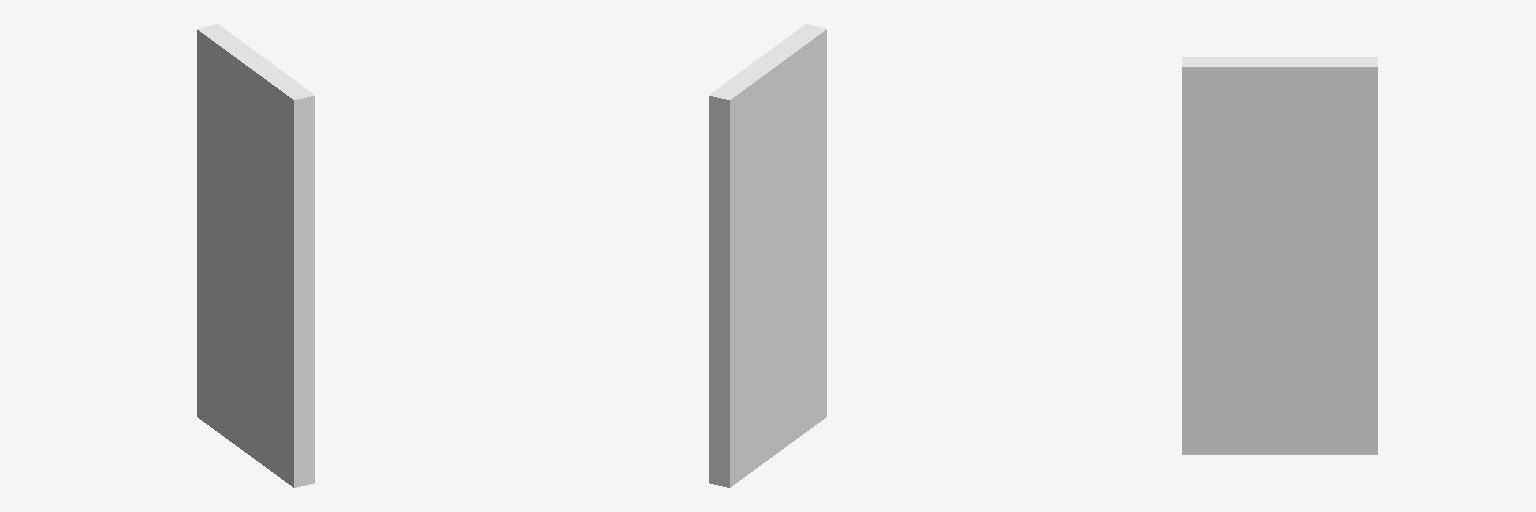
File: Ceyboard.obj
The picture shows the model from 3 angles: view 1: azimuth 30°, elevation 25°; view 2: azimuth 150°, elevation 25°; view 3: azimuth 270°, elevation 25°; orthographic projection.
Visible parts, largest first — view 1: object 1; view 2: object 1; view 3: object 1.
Part boxes in pixels (left/top/right/bottom): object 1: left=197, top=24, right=314, bottom=487; object 1: left=709, top=24, right=826, bottom=487; object 1: left=1182, top=57, right=1377, bottom=454.
Size of the model in its own units: 0.2 by 3.5 by 1.6.